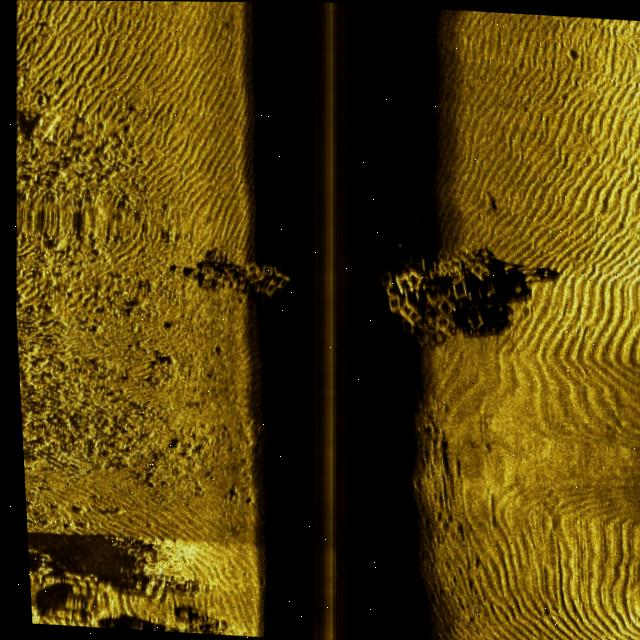artificial reef: (368, 235, 504, 352), (181, 248, 290, 314)
